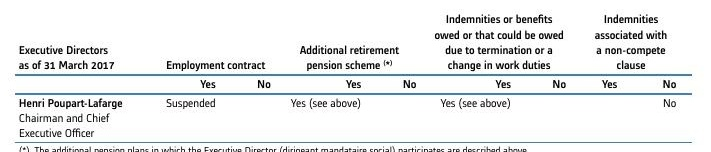table: (0, 0, 711, 152)
